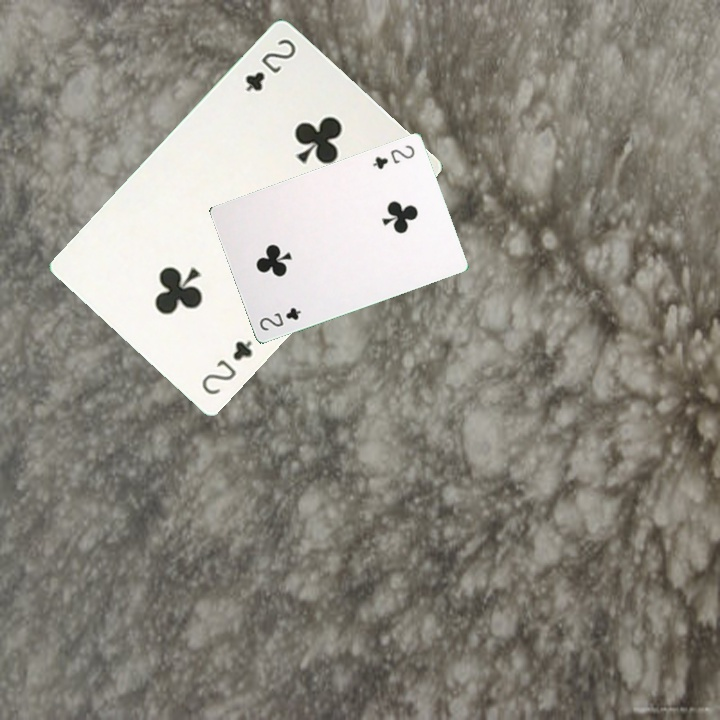2c: (197, 336, 256, 398), (241, 34, 299, 94), (368, 141, 417, 172), (255, 303, 304, 333)
